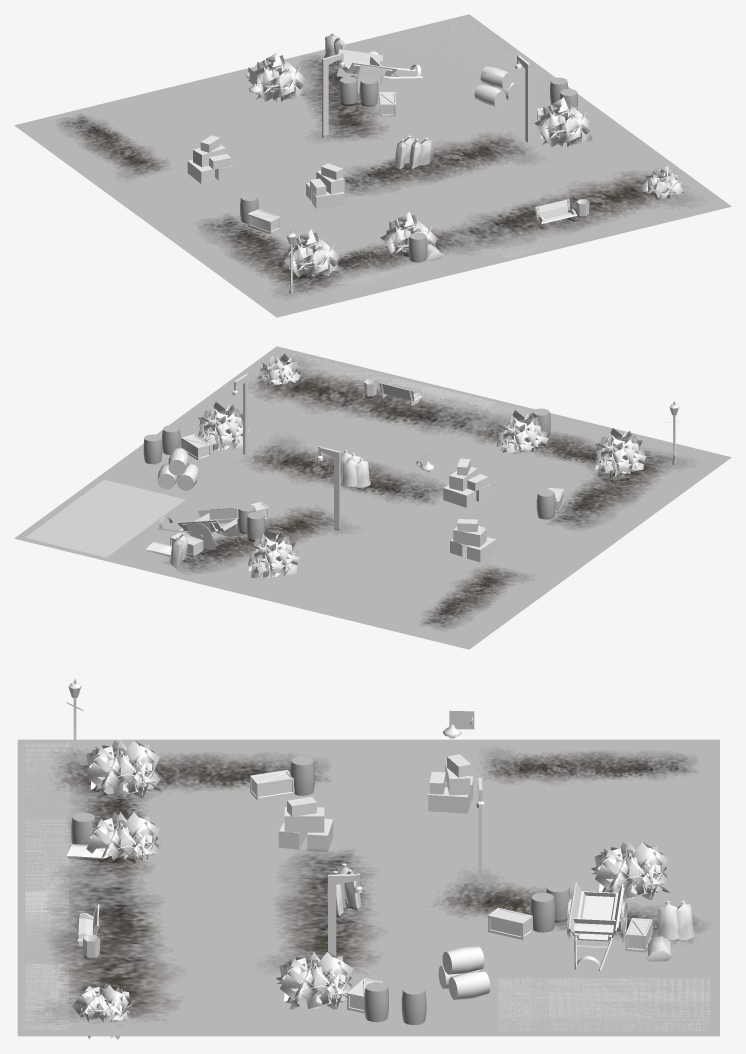
File: propsonly_brew-corner1.gltf
3 views of the same model, one above another, from view 1: azimuth 30°, elevation 25°; view 2: azimuth 150°, elevation 25°; view 3: azimuth 270°, elevation 25° (orthographic). The views are drawn at different scales.
Parts seen in each view (by area): view 1: file_b2_ground2.004, file_b2_ground3.024, file_b2_ground1.033, file_b2_ground4.001, file_b2_ground1.026, file_b2_ground1.030, file_b2_ground3.025, file_b2_ground1.027, file_b2_ground1.031, file_b2_ground1.029, file_b2_ground3.017, file_b1_ground.004 (+26 smaller); view 2: file_b2_ground4.001, file_b2_ground3.024, file_b2_ground1.027, file_b2_ground1.026, file_b2_ground1.033, file_b2_ground1.031, file_b2_ground3.025, file_b2_ground1.030, FeedbackBlocker.015, file_b2_ground1.029, file_b2_ground1.028, file_b2_ground3.017 (+28 smaller); view 3: file_b2_ground4.001, file_b2_ground2.004, file_b2_ground1.029, file_b2_ground1.030, file_b2_ground1.027, file_b2_ground3.025, file_b2_ground3.024, file_b2_ground1.026, file_b1_ground.004, file_b2_ground4.004, file_b2_ground1.033, file_b2_ground3.017 (+34 smaller).
Part boxes in pixels (<box>): file_b2_ground2.004: <box>348,14,539,95</box>; file_b2_ground3.024: <box>125,69,305,144</box>; file_b2_ground1.033: <box>539,155,731,235</box>; file_b2_ground4.001: <box>14,95,188,172</box>; file_b2_ground1.026: <box>382,138,549,216</box>; file_b2_ground1.030: <box>78,142,258,223</box>; file_b2_ground3.025: <box>206,236,398,317</box>; file_b2_ground1.027: <box>430,185,620,260</box>; file_b2_ground1.031: <box>142,192,333,265</box>; file_b2_ground1.029: <box>220,119,374,196</box>; file_b2_ground3.017: <box>302,88,480,166</box>; file_b1_ground.004: <box>261,162,445,240</box>; file_b2_ground4.001: <box>347,571,532,649</box>; file_b2_ground3.024: <box>247,541,427,619</box>; file_b2_ground1.027: <box>319,373,509,449</box>; file_b2_ground1.026: <box>255,420,445,501</box>; file_b2_ground1.033: <box>206,346,397,427</box>; file_b2_ground1.031: <box>479,479,660,555</box>; file_b2_ground3.025: <box>539,428,731,508</box>; file_b2_ground1.030: <box>423,525,601,602</box>; FeedbackBlocker.015: <box>25,479,185,557</box>; file_b2_ground1.029: <box>318,499,491,573</box>; file_b2_ground1.028: <box>438,400,619,480</box>; file_b2_ground3.017: <box>189,467,363,548</box>; file_b2_ground4.001: <box>531,739,719,819</box>; file_b2_ground2.004: <box>531,956,719,1036</box>; file_b2_ground1.029: <box>360,812,548,891</box>; file_b2_ground1.030: <box>360,739,548,819</box>; file_b2_ground1.027: <box>17,884,205,963</box>; file_b2_ground3.025: <box>17,739,205,819</box>; file_b2_ground3.024: <box>531,812,719,891</box>; file_b2_ground1.026: <box>189,884,377,956</box>; file_b1_ground.004: <box>189,812,377,891</box>; file_b2_ground4.004: <box>189,956,377,1036</box>; file_b2_ground1.033: <box>17,964,205,1036</box>; file_b2_ground3.017: <box>360,884,548,963</box>.
Size of what is drawn, in the model's own units: 4.1 by 0.9485 by 4.19.
